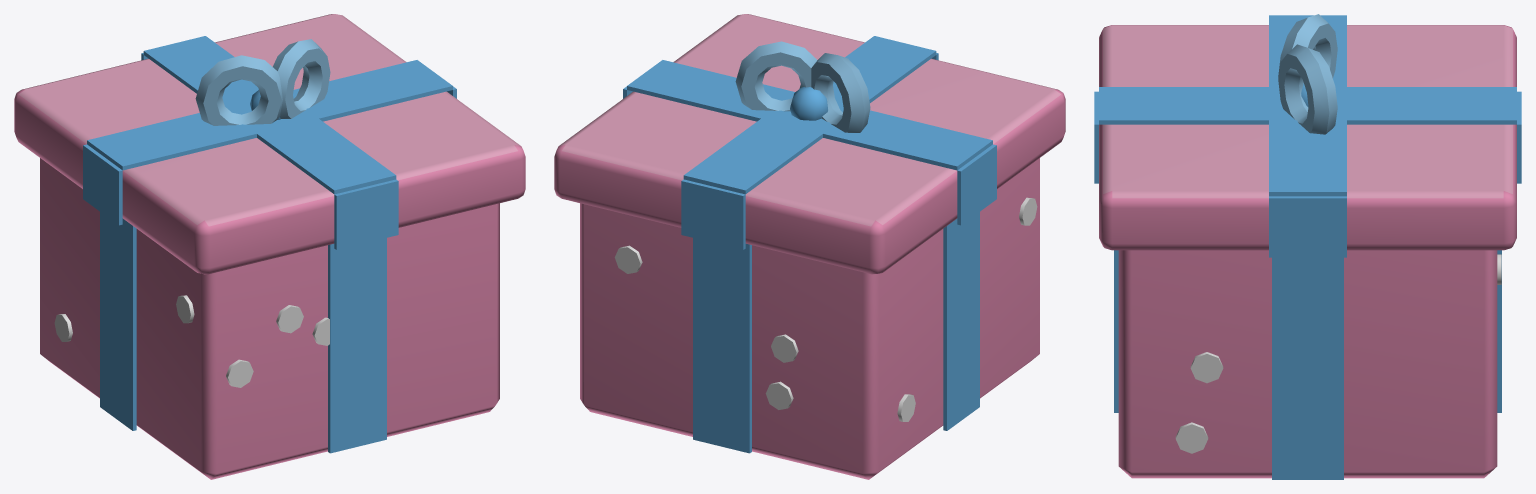
File: block-hide.glb
3 renders of one model, left to right at view 1: azimuth 30°, elevation 25°; view 2: azimuth 150°, elevation 25°; view 3: azimuth 270°, elevation 25°, orthographic. The views are drawn at different scales.
Visible parts, largest first — view 1: block-hide; view 2: block-hide; view 3: block-hide.
Boxes of the visible parts, left/top/right/bottom form: block-hide: left=14, top=14, right=525, bottom=479; block-hide: left=554, top=14, right=1065, bottom=479; block-hide: left=1094, top=14, right=1521, bottom=479.
Size of the model in its own units: 1.31 by 1.25 by 1.31.
